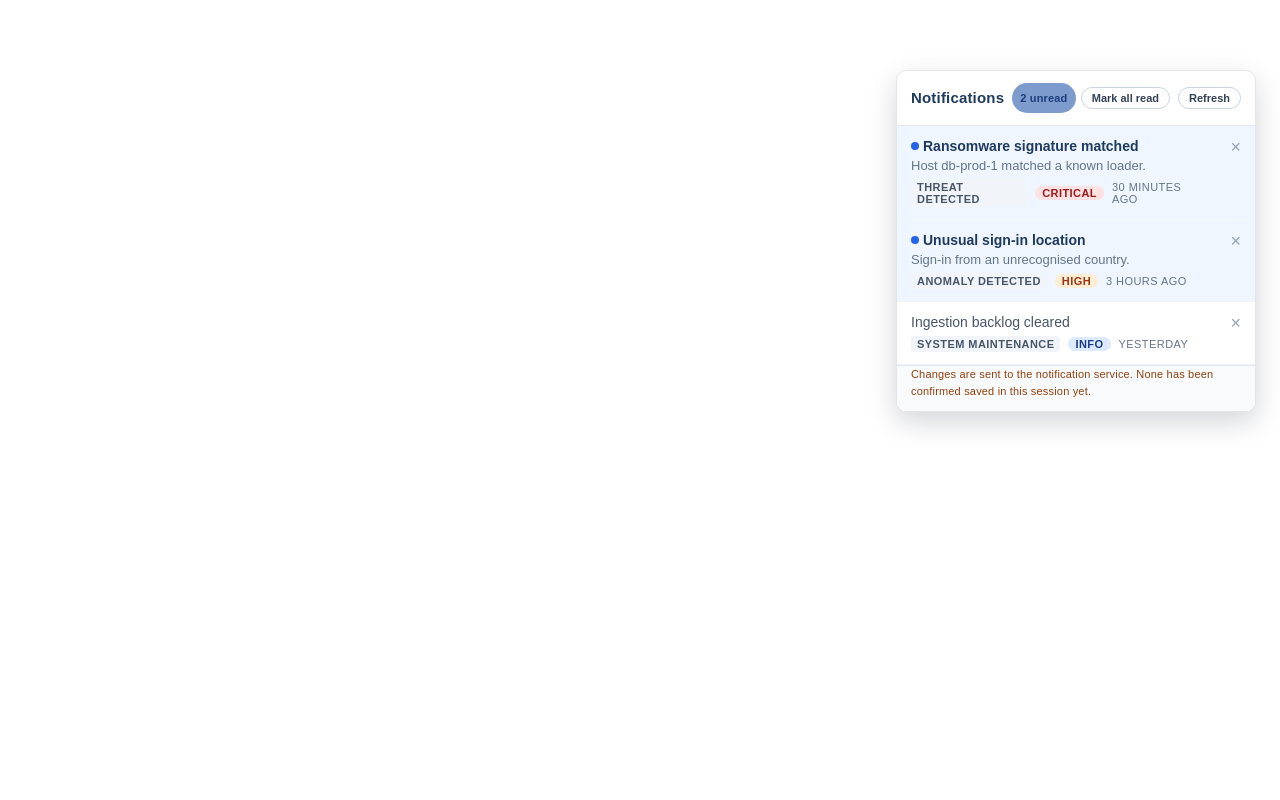
Scenario: persistence wording › keeps a disclaimer on a live provider until an action has actually succeeded
The image size is (1280, 800).
expect the text "None has been confirmed saved in this session yet" is shown: met, box x1=911 y1=368 x2=1213 y2=397
Click the button with class "notif-item-main" that starts with "Ransomware signature matched" at (1057, 173), box x1=897 y1=126 x2=1216 y2=219
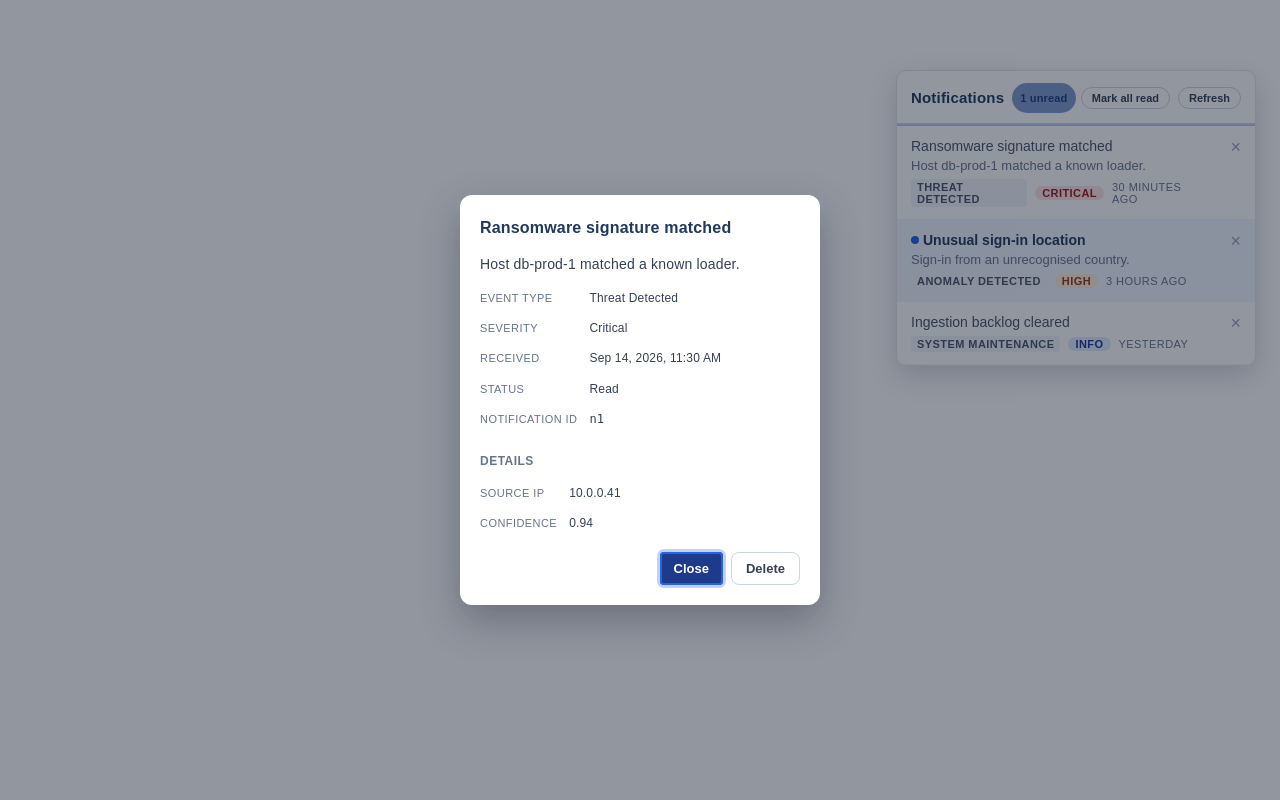
expect the text "None has been confirmed saved in this session yet" is gone: met
